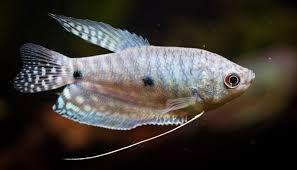Gourami: (7, 10, 264, 155)
